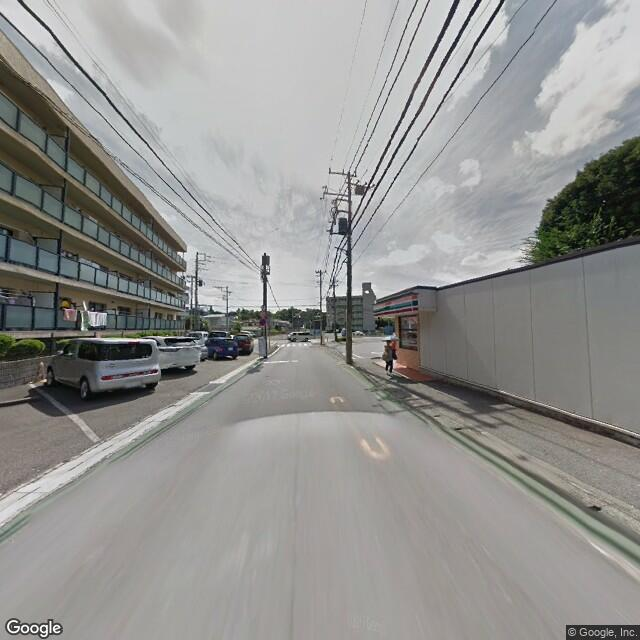7-eleven: (373, 290, 424, 319)
